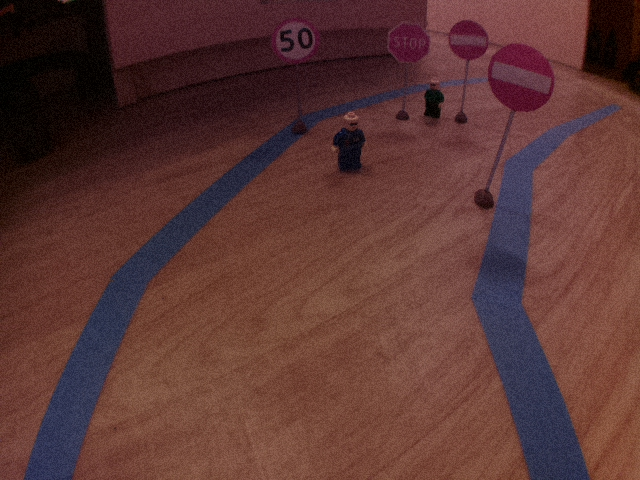LEGO_person: (330, 108, 372, 176), (421, 76, 447, 120)
ogr_50: (270, 17, 321, 65)
stop: (386, 18, 433, 67)
zakaz: (487, 42, 557, 114), (447, 18, 488, 63)
